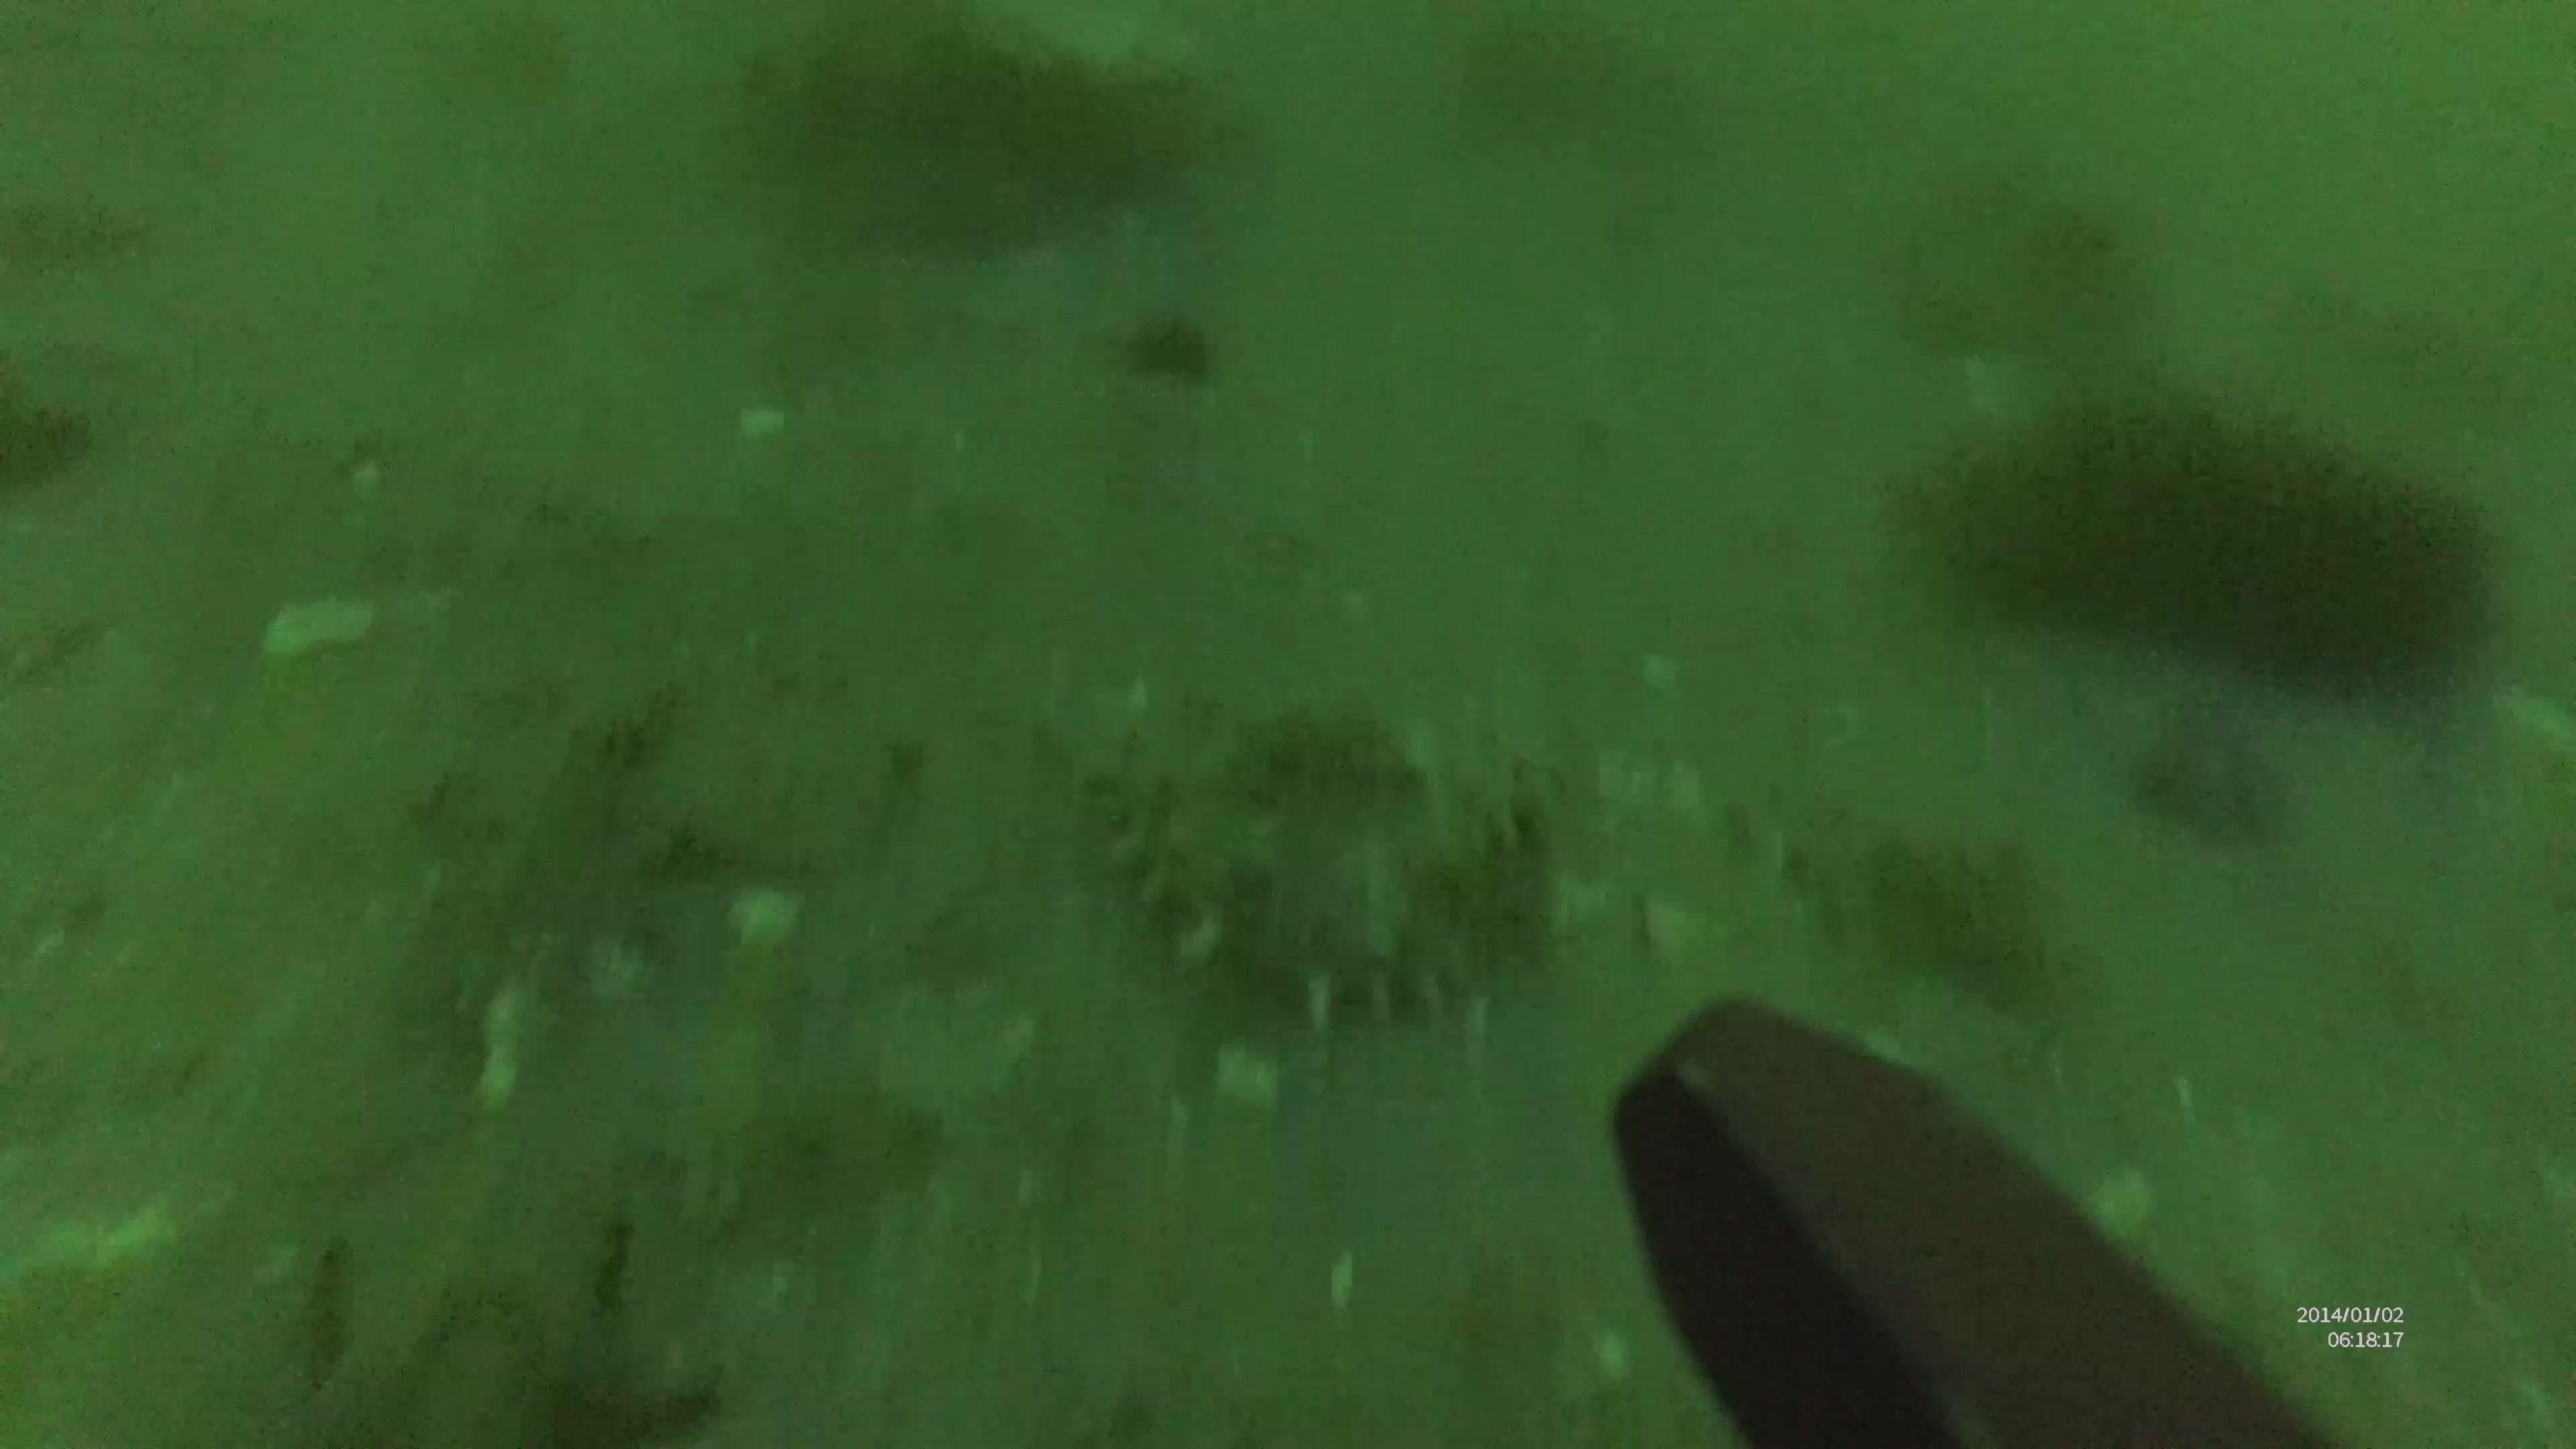holothurian: (1093, 711, 1555, 1030)
